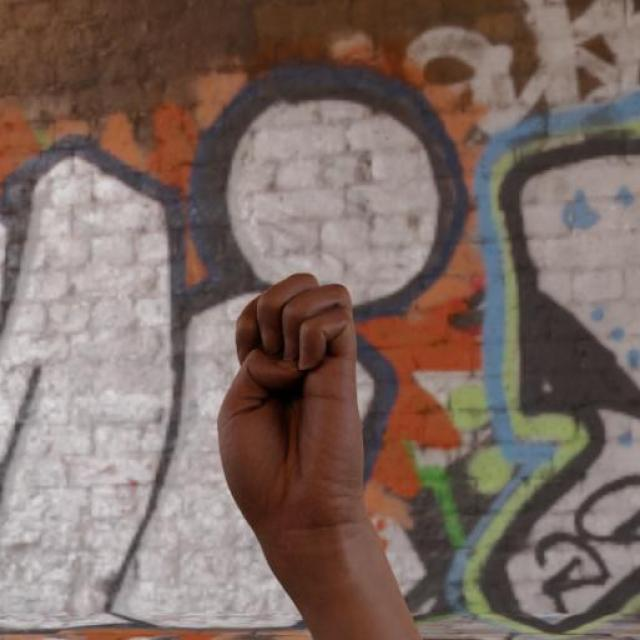E: (213, 265, 372, 519)
